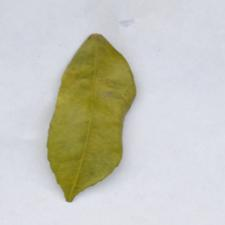Greening: (42, 29, 146, 194)
